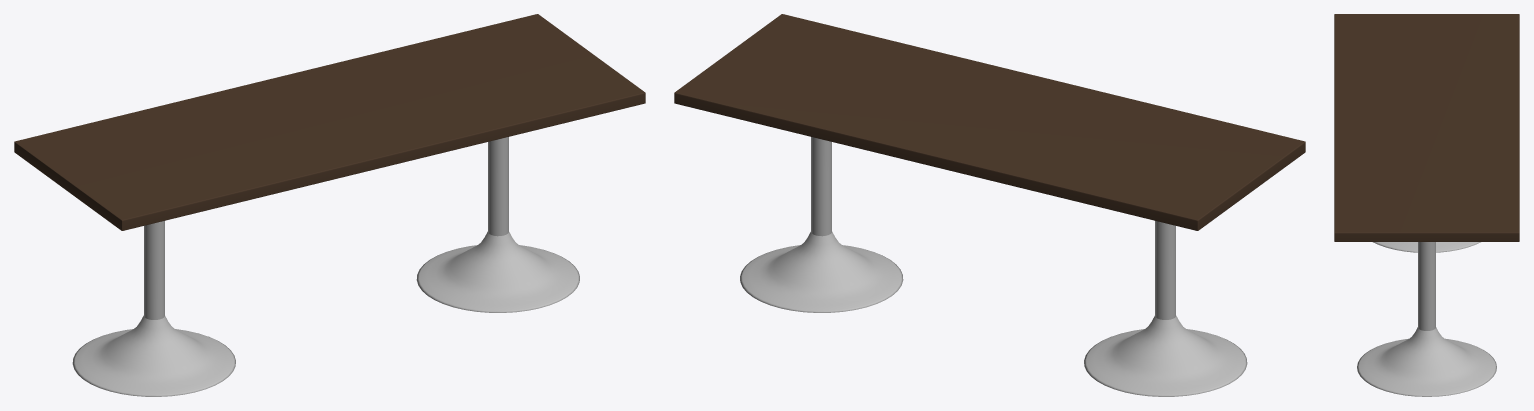
File: basic table 3.fbx
The picture shows the model from 3 angles, left to right: view 1: azimuth 30°, elevation 25°; view 2: azimuth 150°, elevation 25°; view 3: azimuth 270°, elevation 25°; orthographic projection. The views are drawn at different scales.
Visible parts, largest first — view 1: polySurface133; view 2: polySurface133; view 3: polySurface133.
Boxes of the visible parts, <box> form: polySurface133: <box>14,14,645,396</box>; polySurface133: <box>674,14,1305,396</box>; polySurface133: <box>1334,14,1519,396</box>.
Bounding box in the file's own units: 6.1 × 2.27 × 2.18.
